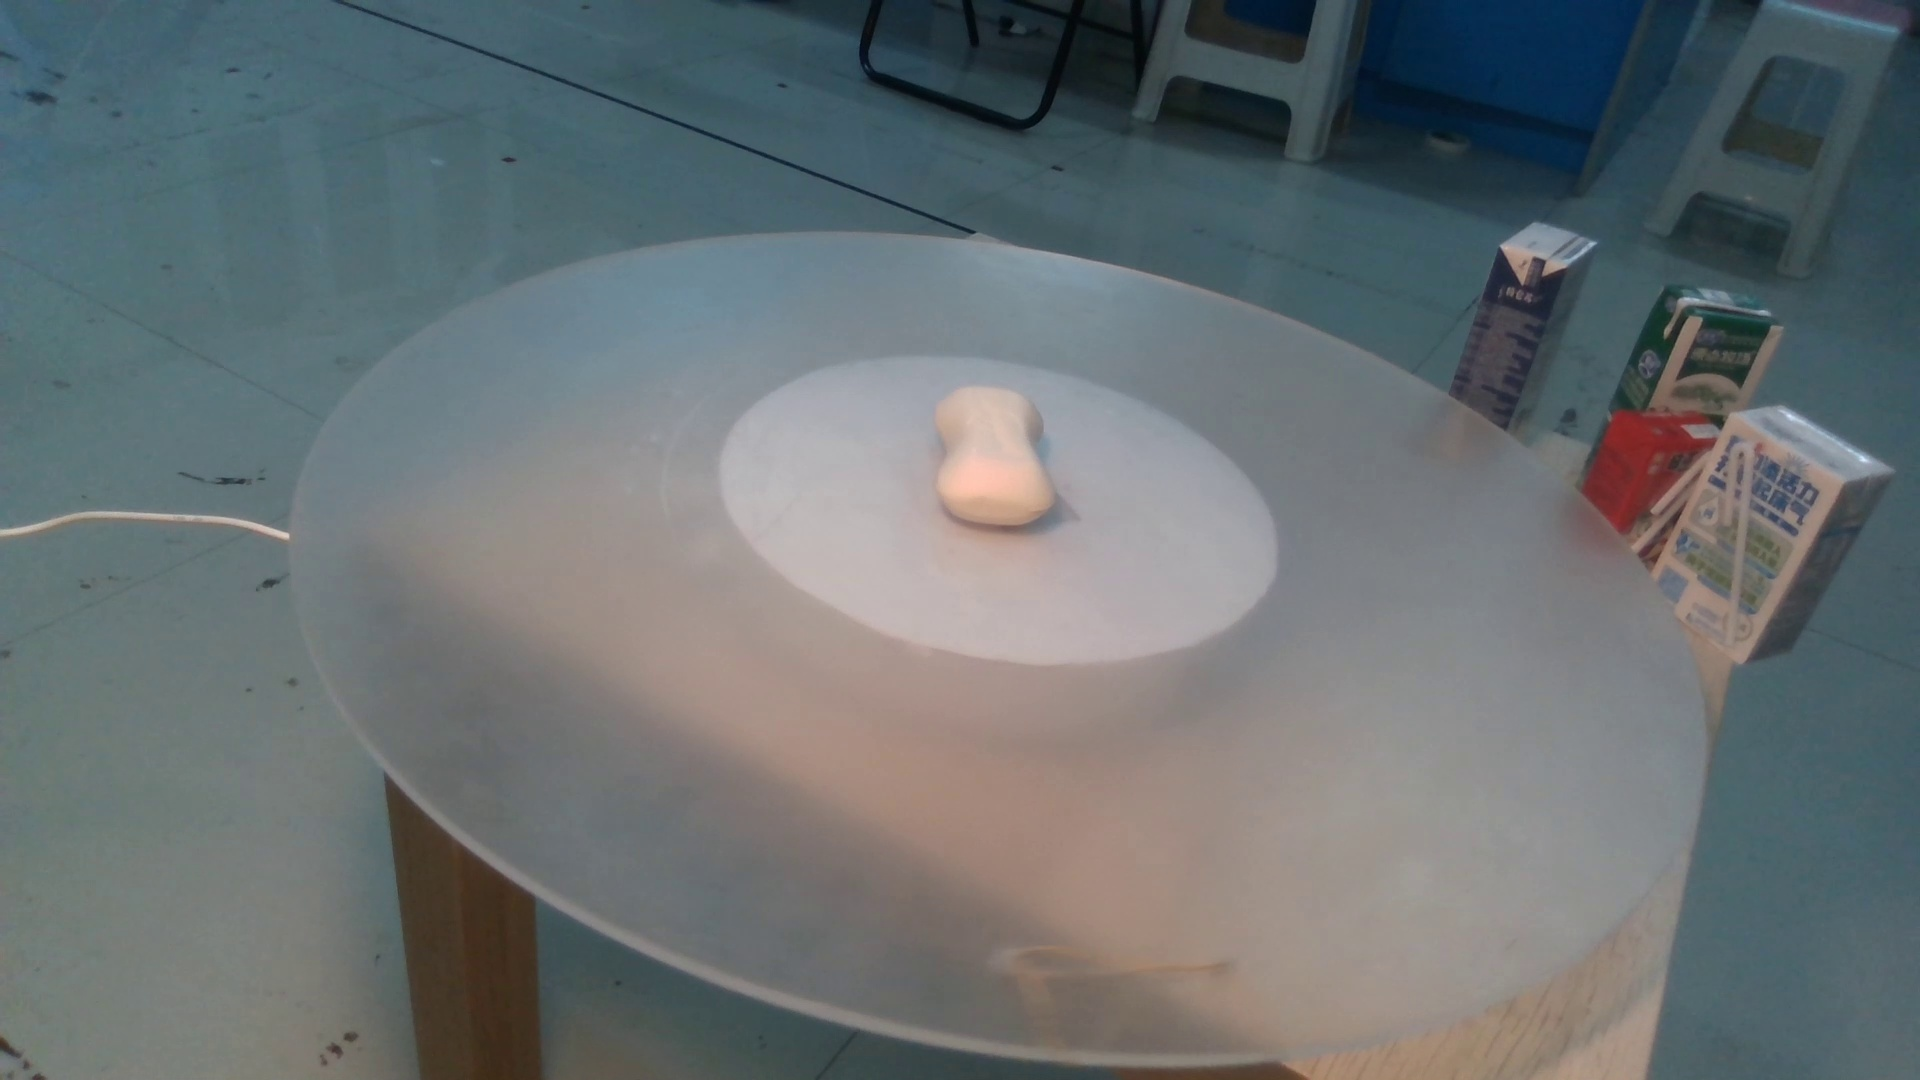CA003_1: (918, 375, 1098, 522)
